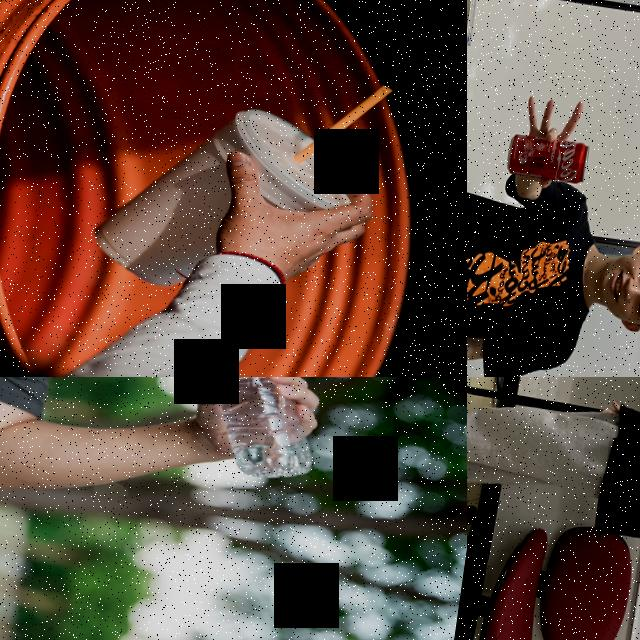bottle: (175, 377, 336, 487)
can: (503, 131, 590, 186)
cup: (85, 86, 372, 314)
